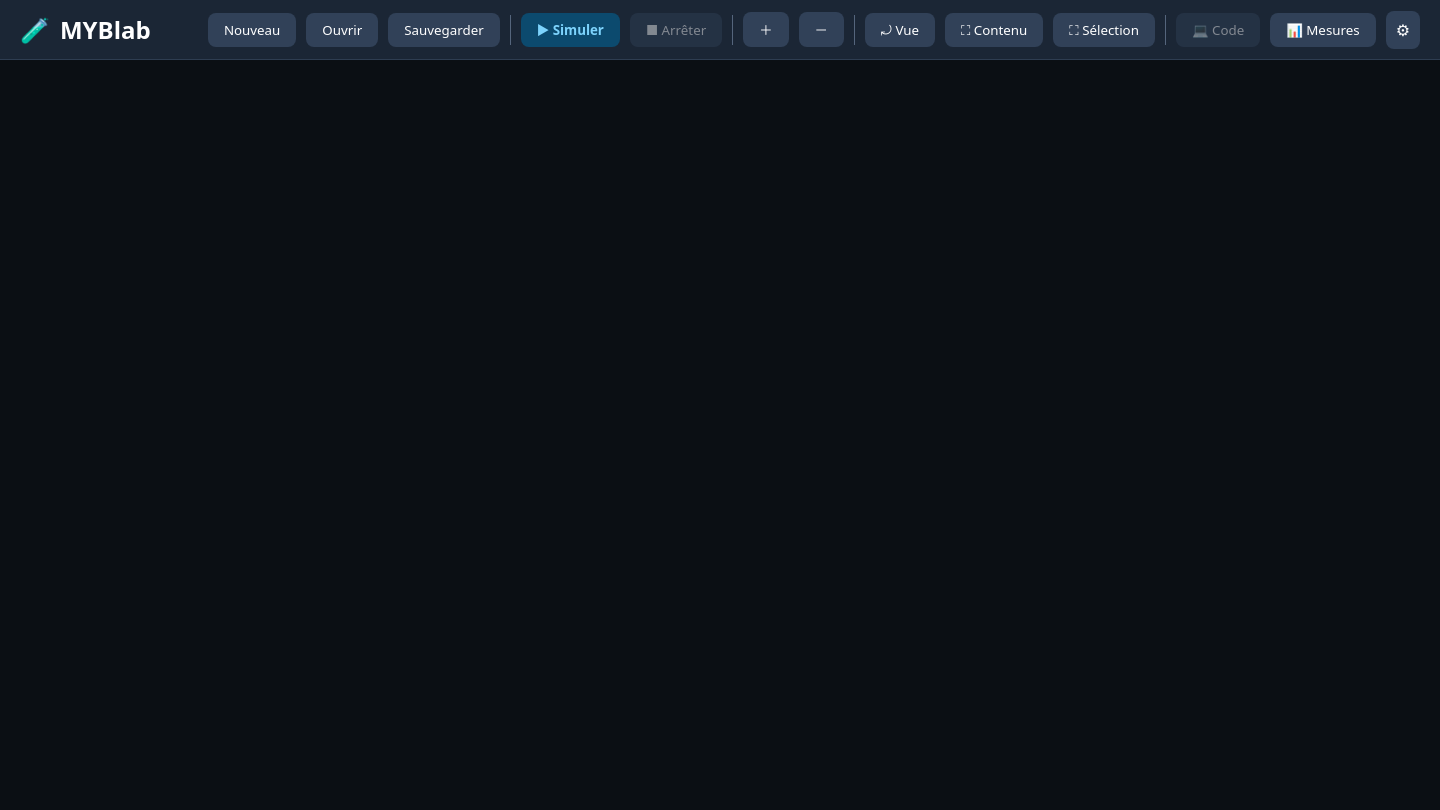
MB-MEASURE-002 — TEST T5/T6 : CURRENT VALID (AC-08) › mesurer CURRENT sur RESISTOR.A dans le même circuit affiche value + A + VALID = 5/220
Click the button titled "Mesures" at {"x": 1323, "y": 30}, box [1270,12,1376,46]
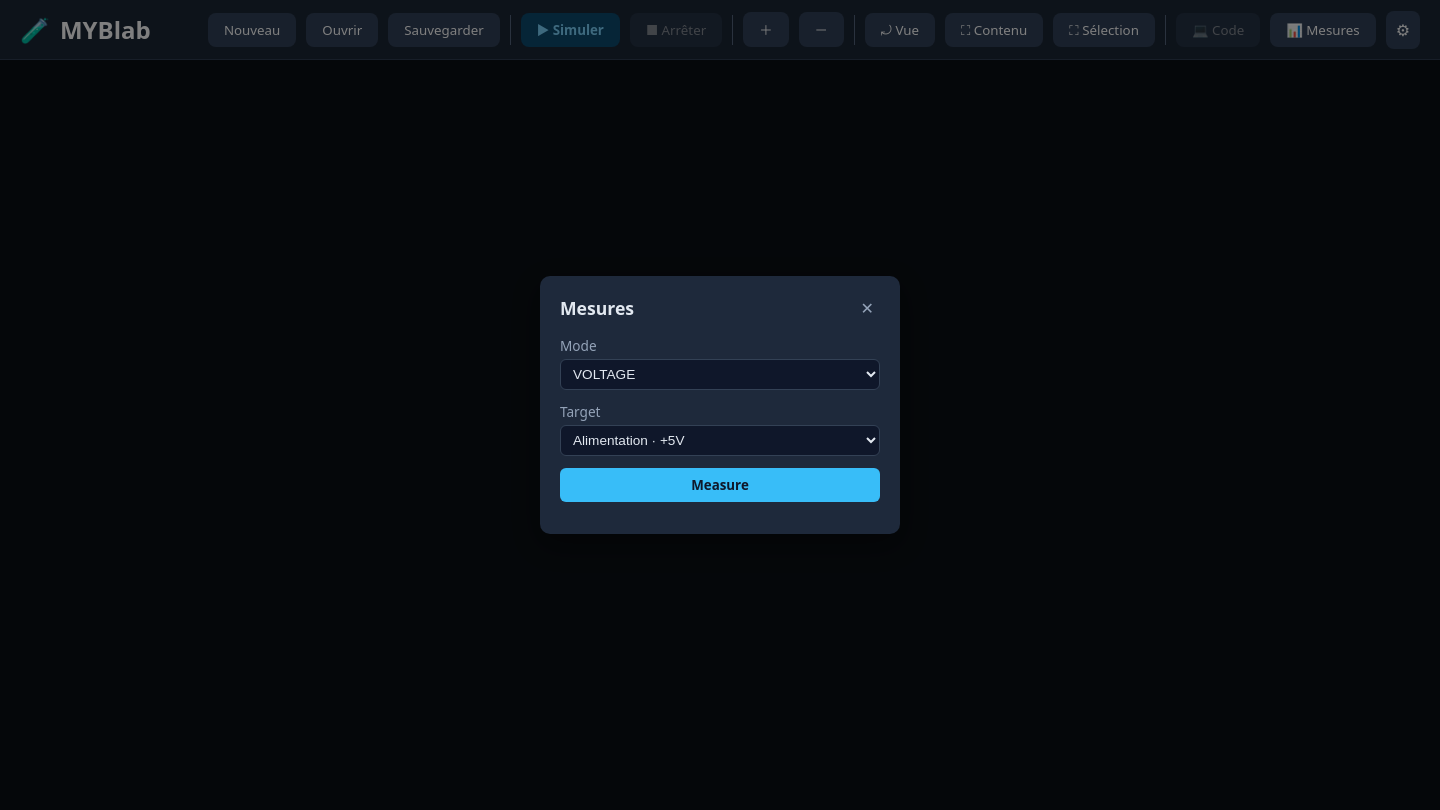
Select "CURRENT" in the dropdown labelled "Mode" at {"x": 720, "y": 374}, box [560,359,880,390]
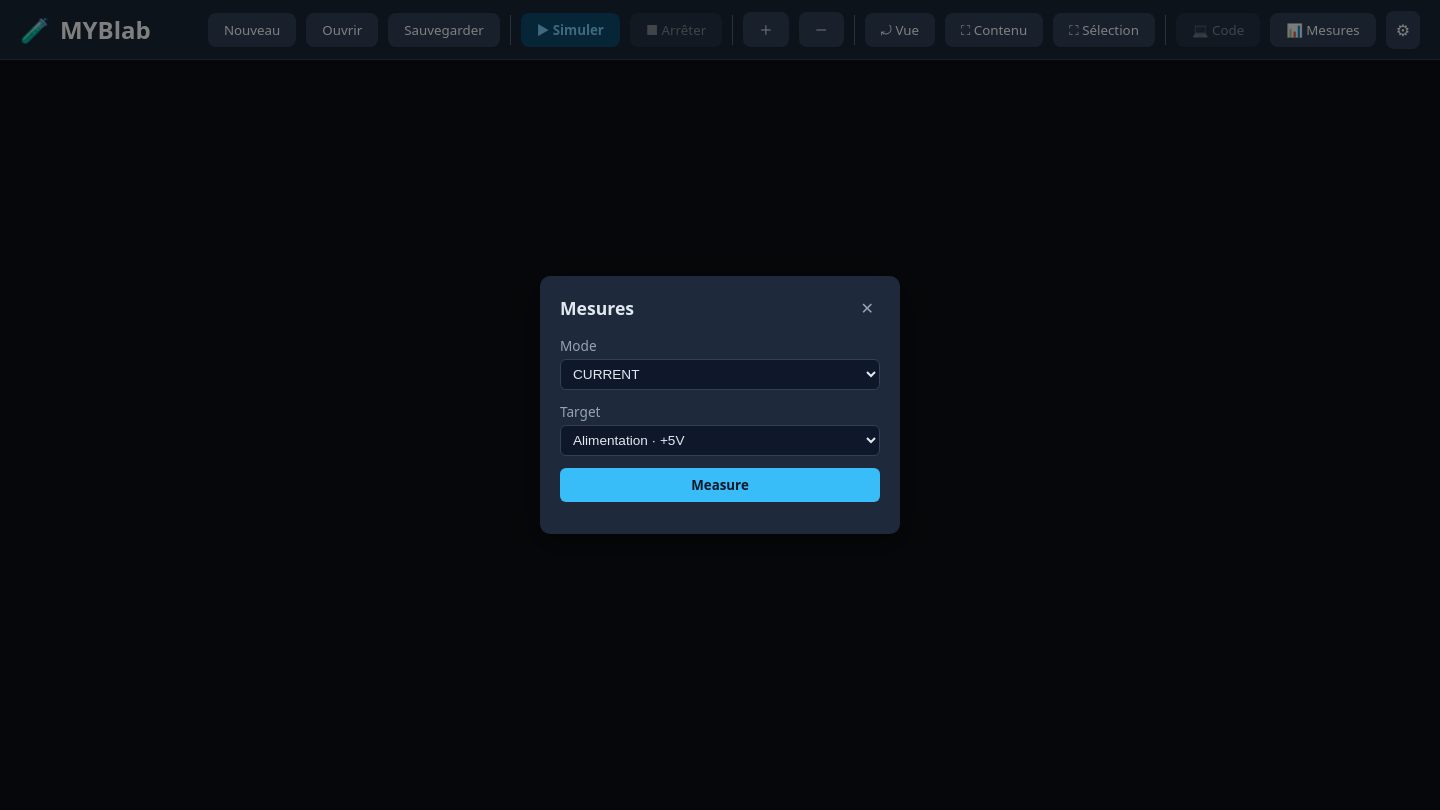
Select "Résistance · A" in the dropdown labelled "Target" at {"x": 720, "y": 440}, box [560,425,880,456]
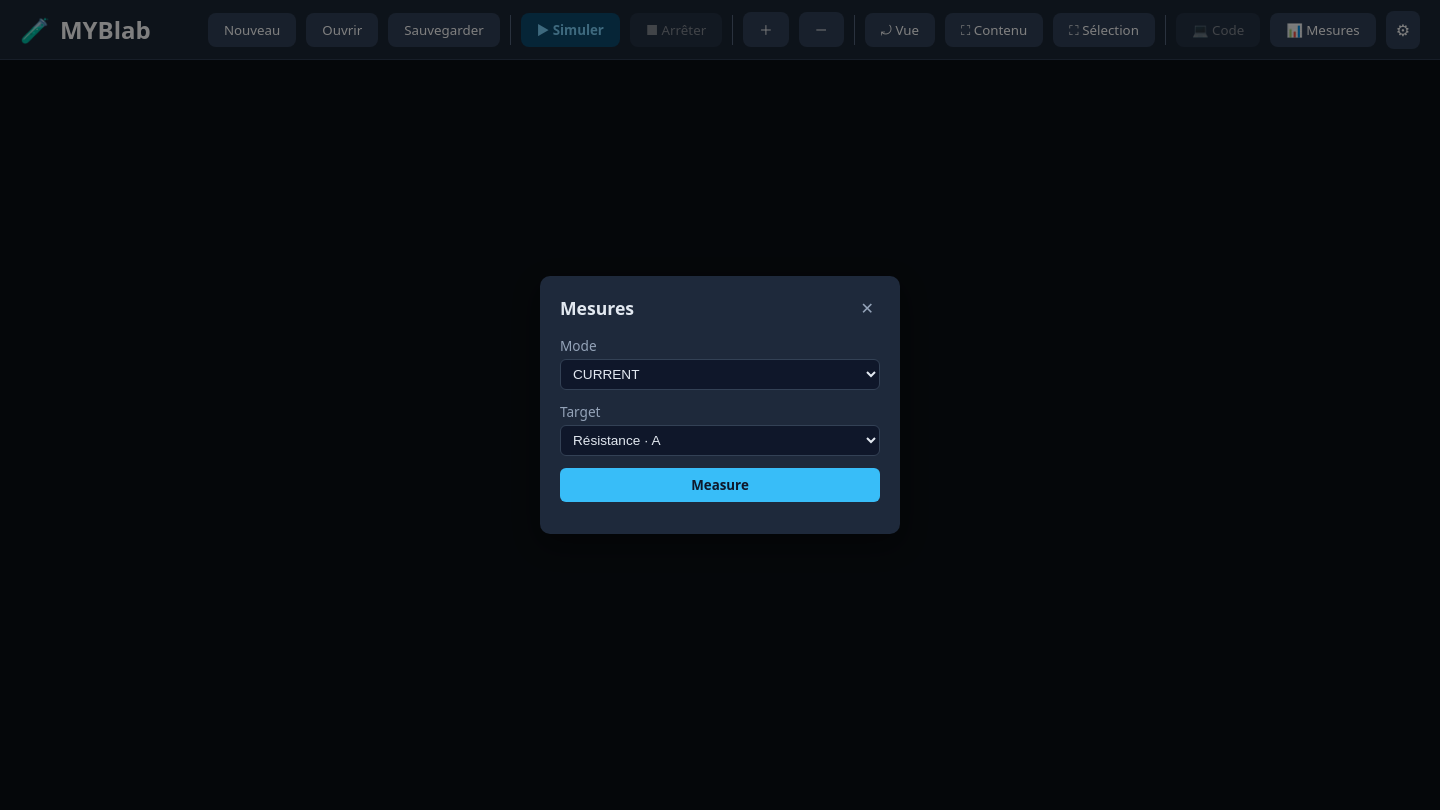
Click the button "Measure" at {"x": 720, "y": 485}, box [560,468,880,502]
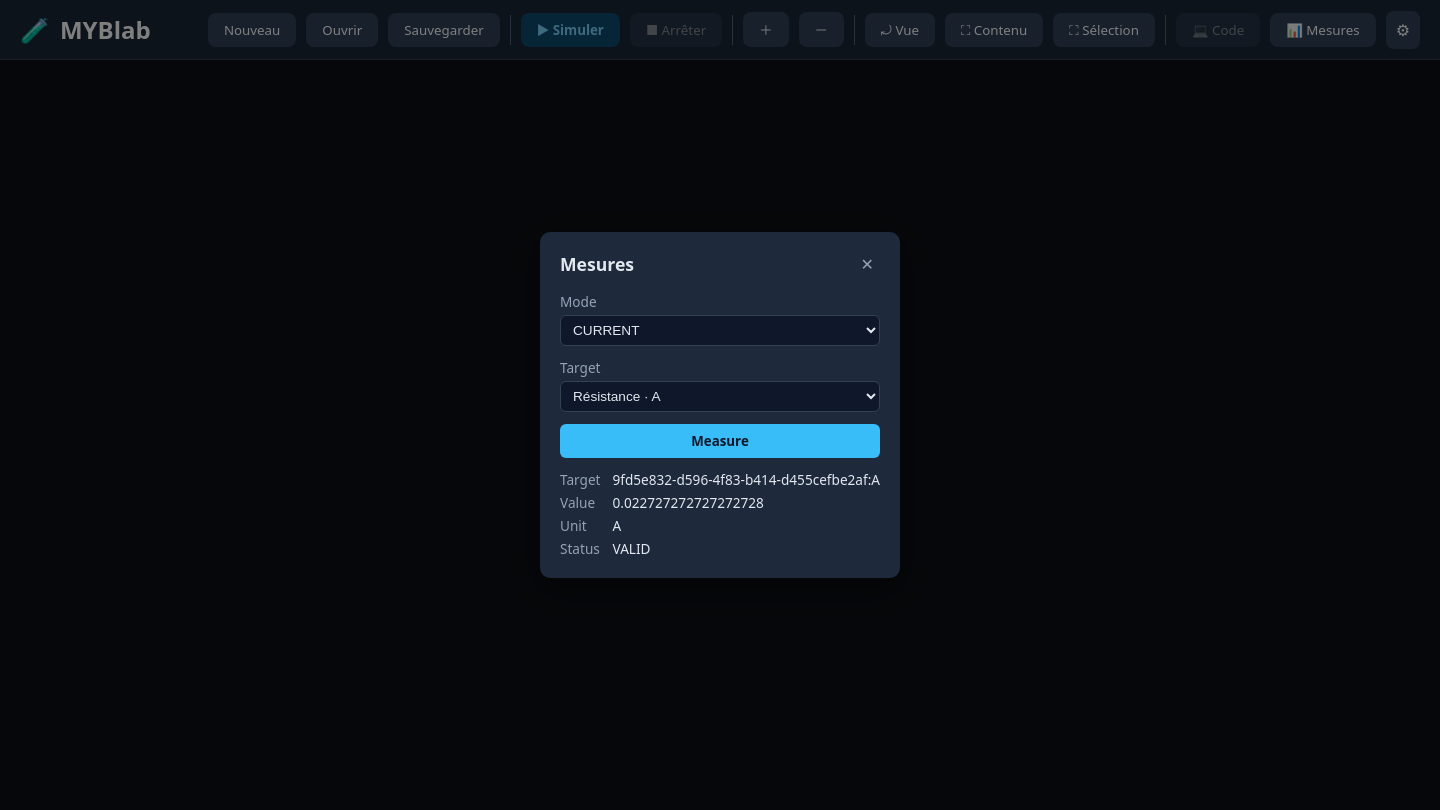
Expected: the element named "measurement-result" shows "a", [612,516,621,535]
Expected: the element named "measurement-result" shows "VALID", [612,539,650,558]
